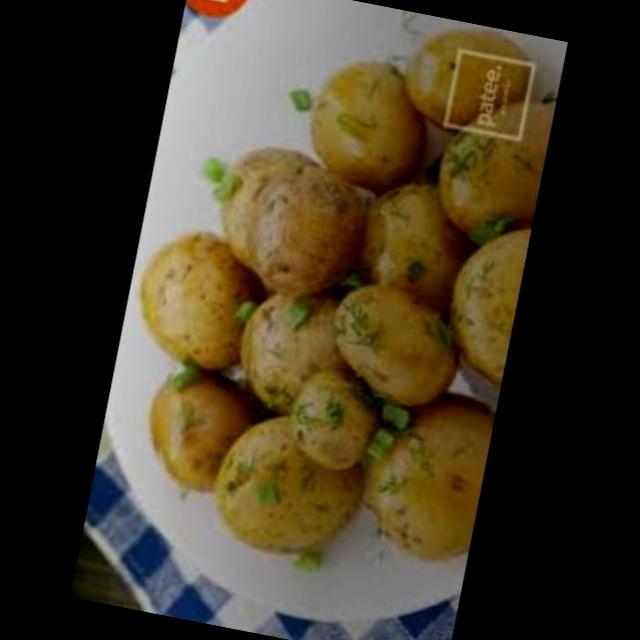Potato: (198, 389, 396, 574), (350, 370, 500, 570), (195, 140, 368, 302), (412, 66, 560, 246), (118, 343, 274, 513), (334, 145, 476, 313), (120, 227, 268, 386), (416, 201, 534, 383), (314, 271, 464, 409), (296, 47, 432, 197), (397, 14, 545, 140), (276, 356, 389, 486), (226, 272, 330, 413)
